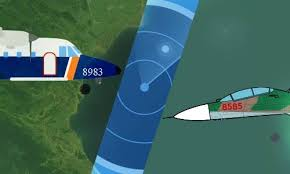maybay_muctieu: (170, 73, 290, 131)
